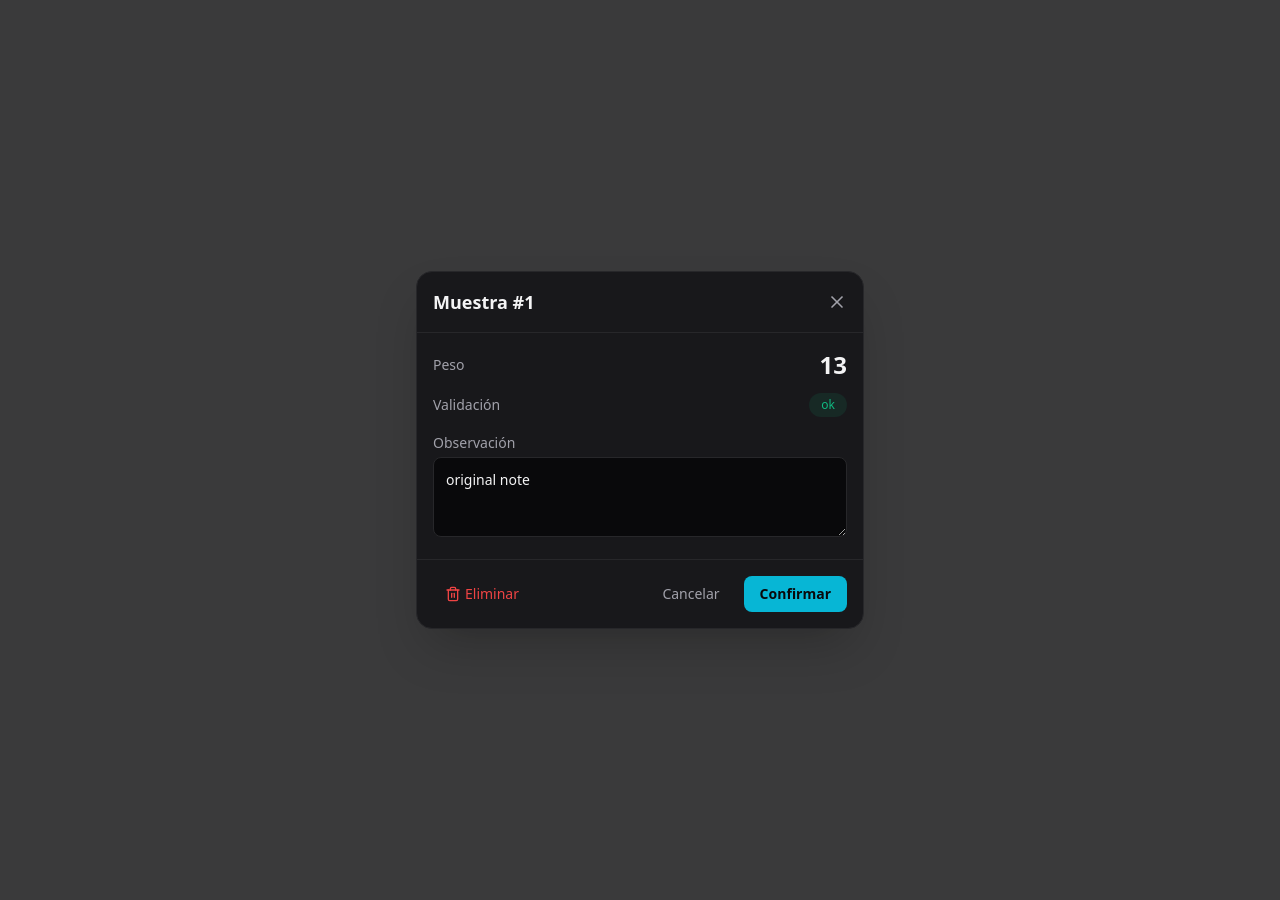
MuestraObservacionPopup › shows a friendly message (not the raw backend text) when the pasada is already closed
Click the button "Confirmar".
click(795, 594)  # box [744,576,847,612]
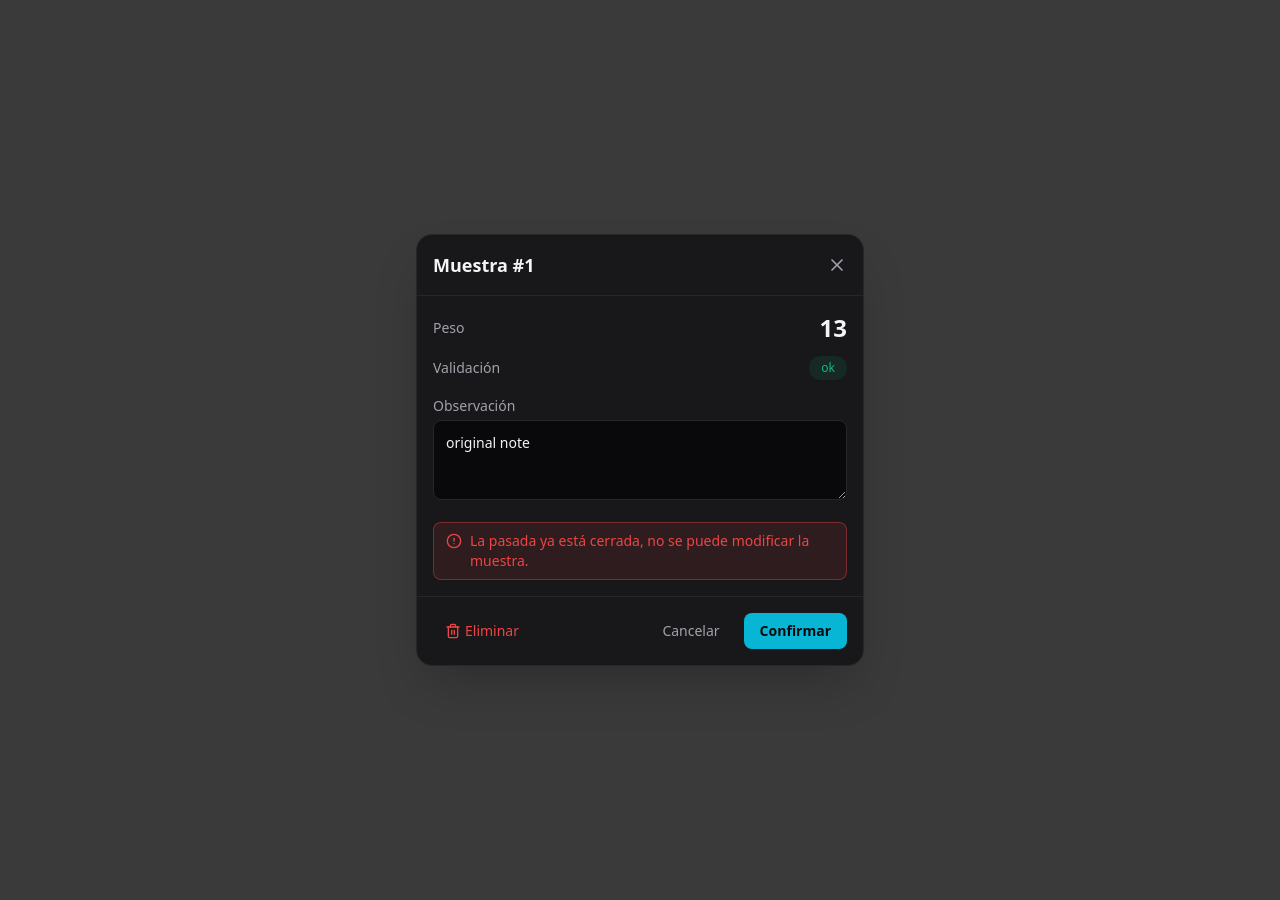
Expected: the message does not show "cannot update sample", [433,522,847,580]
Result: the message shows "La pasada ya está cerrada" at [470,531,809,570]
